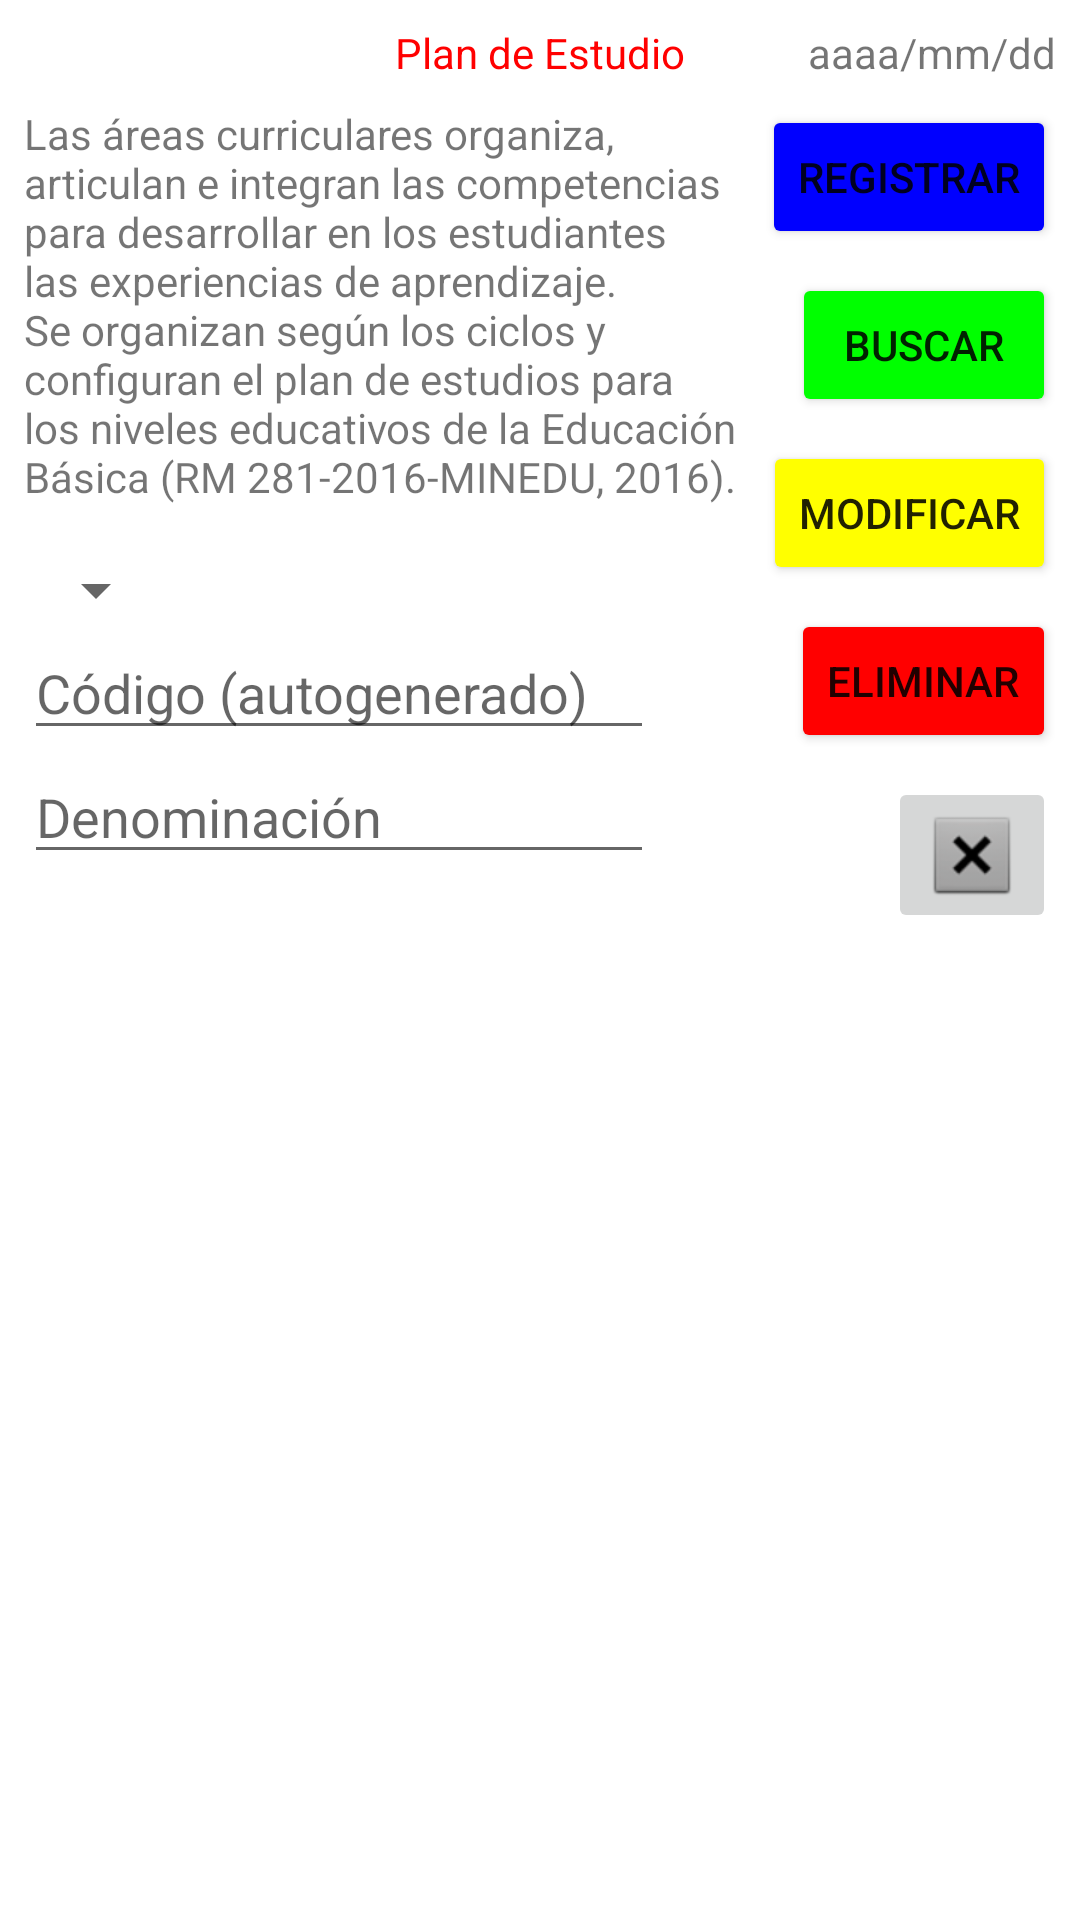

Screen size 1080 x 1920. Icon name, then its box in pixels as box(x1, y1, x2, y2):
Salir: box(900, 795, 1044, 915)
